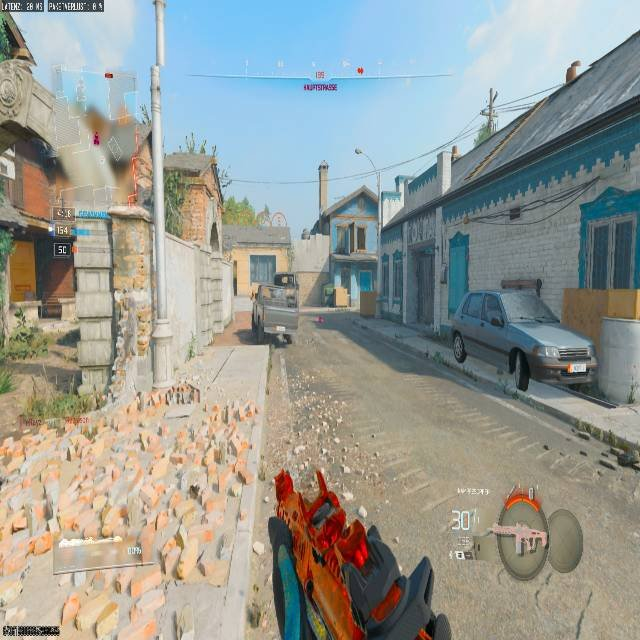player: (250, 284, 268, 329)
